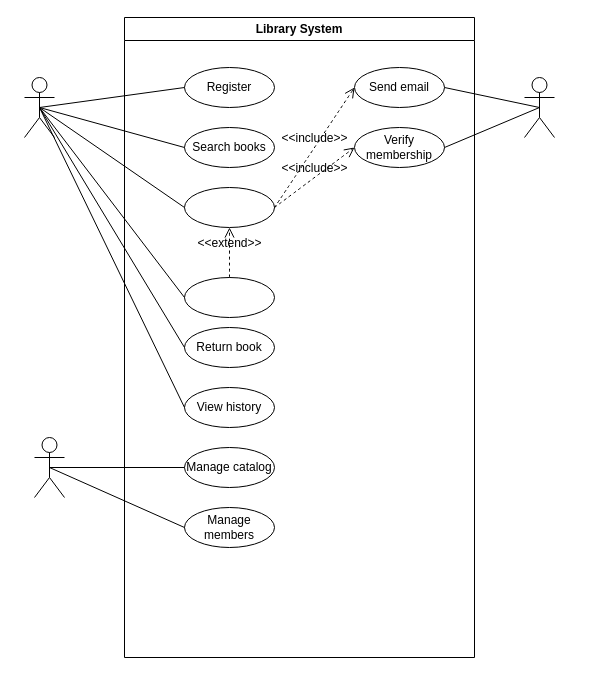
This 593x675 diagram has some shape labels left out. Each missing label, with the box of its shape:
Admin: (34, 436, 64, 498)
Borrow book: (184, 186, 274, 228)
Email System: (524, 76, 554, 138)
Extend loan: (184, 276, 274, 318)
Member: (24, 76, 54, 138)
